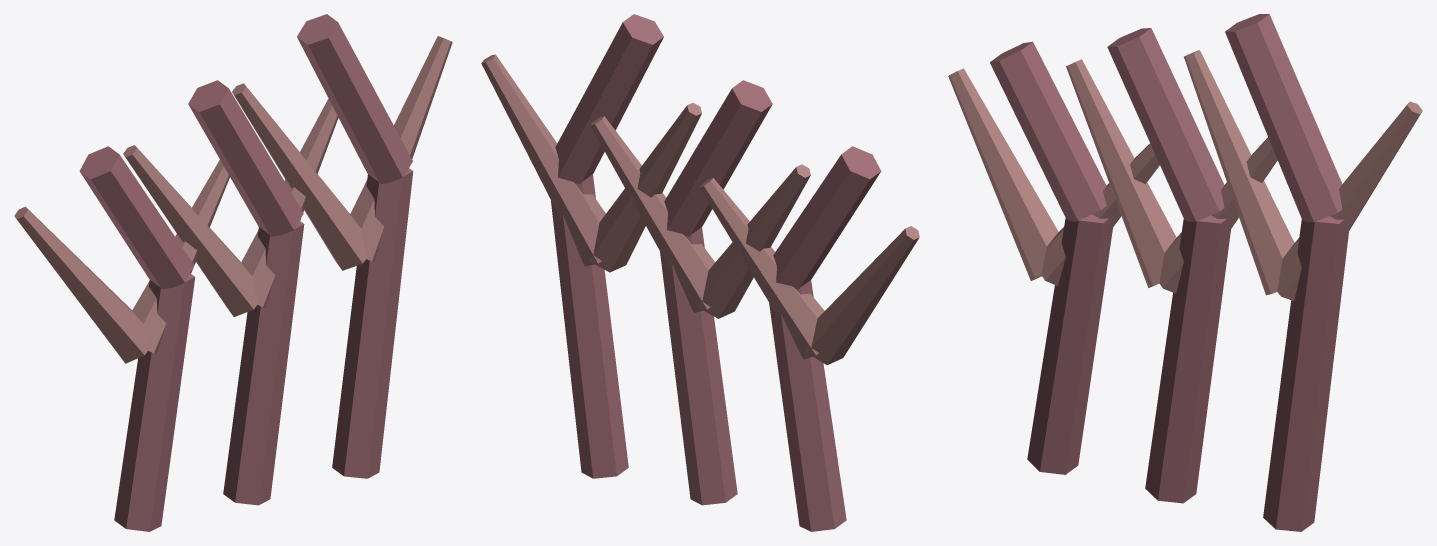
Rendered from map-boundaries-v5__tide_01.glb.
The picture shows the model from 3 angles, left to right: view 1: azimuth 30°, elevation 25°; view 2: azimuth 150°, elevation 25°; view 3: azimuth 330°, elevation 25°; orthographic projection. The views are drawn at different scales.
Visible parts, largest first — view 1: tide_01; view 2: tide_01; view 3: tide_01.
Boxes of the visible parts, x1,y1,x2,y2 form: tide_01: [14, 14, 452, 531]; tide_01: [481, 14, 919, 531]; tide_01: [948, 14, 1422, 531].
Size of the model in its own units: 1.48 by 1.49 by 0.1744.
